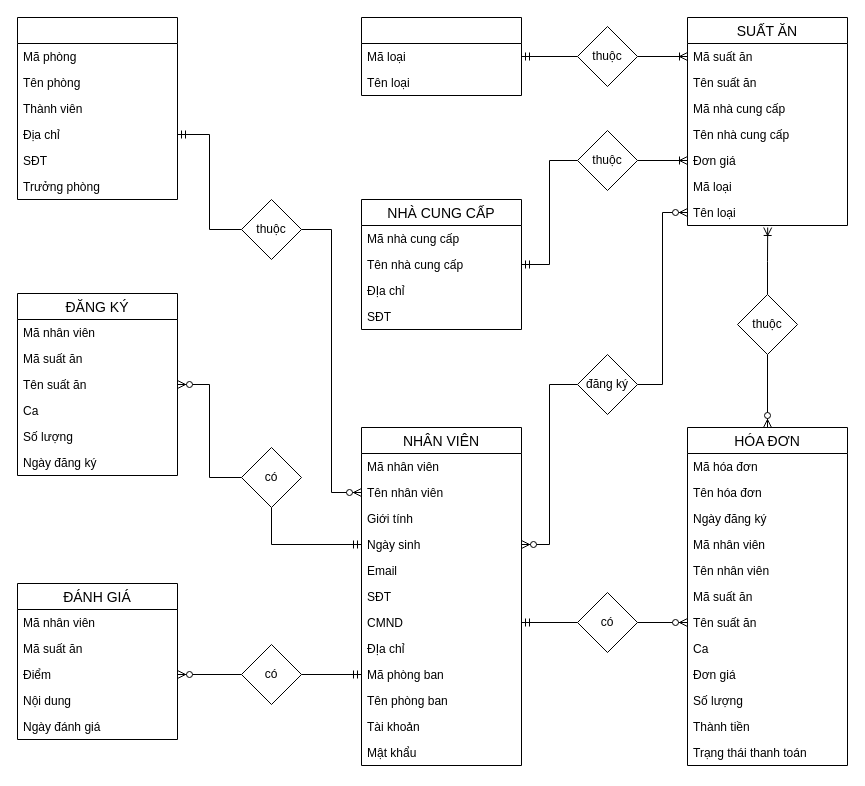
Some shapes in this 865 by 786 pixel diagram are drawn without their labels. The box of each missing label's shape, as (x1, y1, x2, y2) in pixels:
LOẠI SUẤT ĂN: (360, 16, 522, 96)
PHÒNG BAN: (16, 16, 178, 200)
